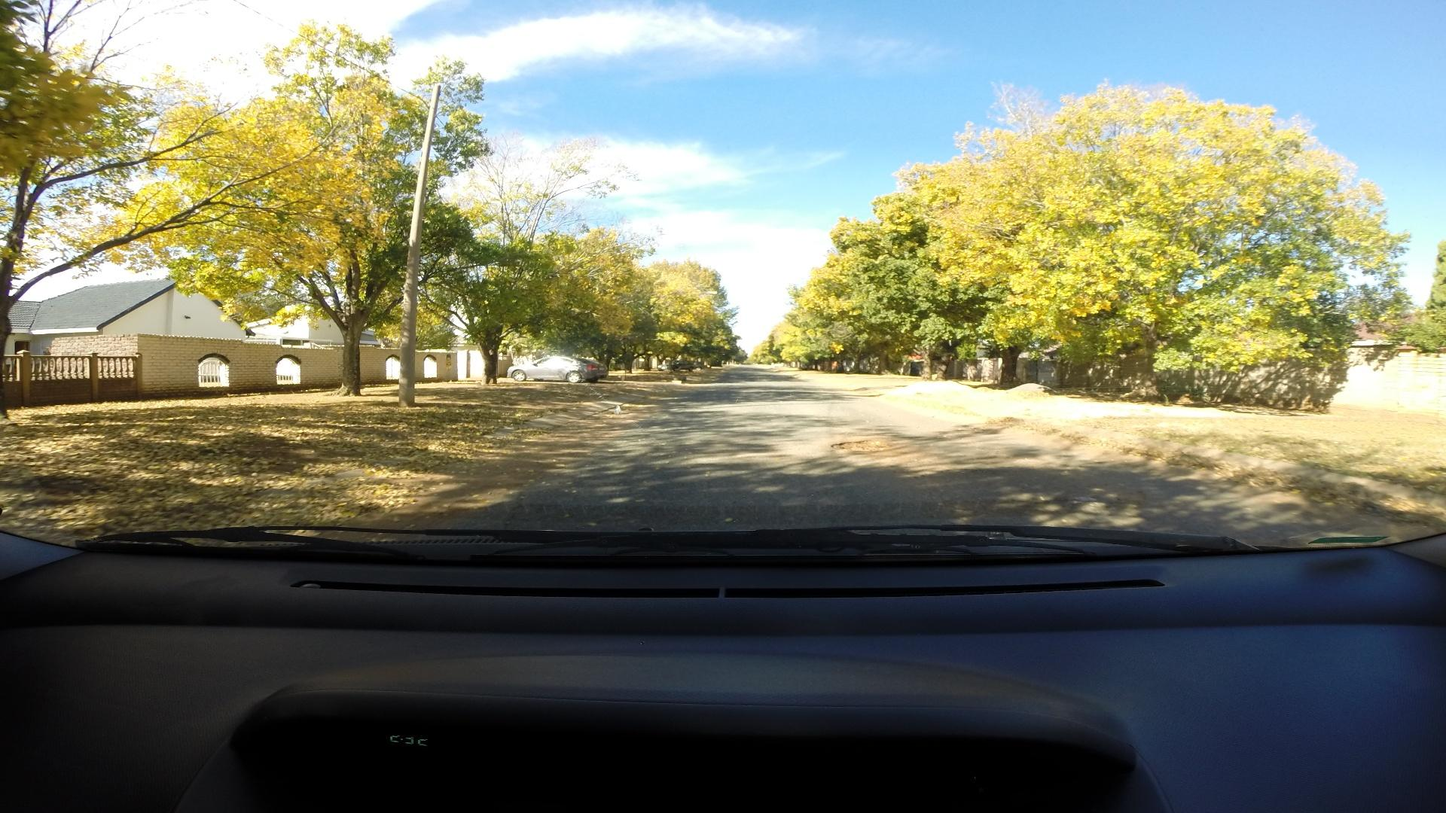pothole: (833, 434, 900, 451)
